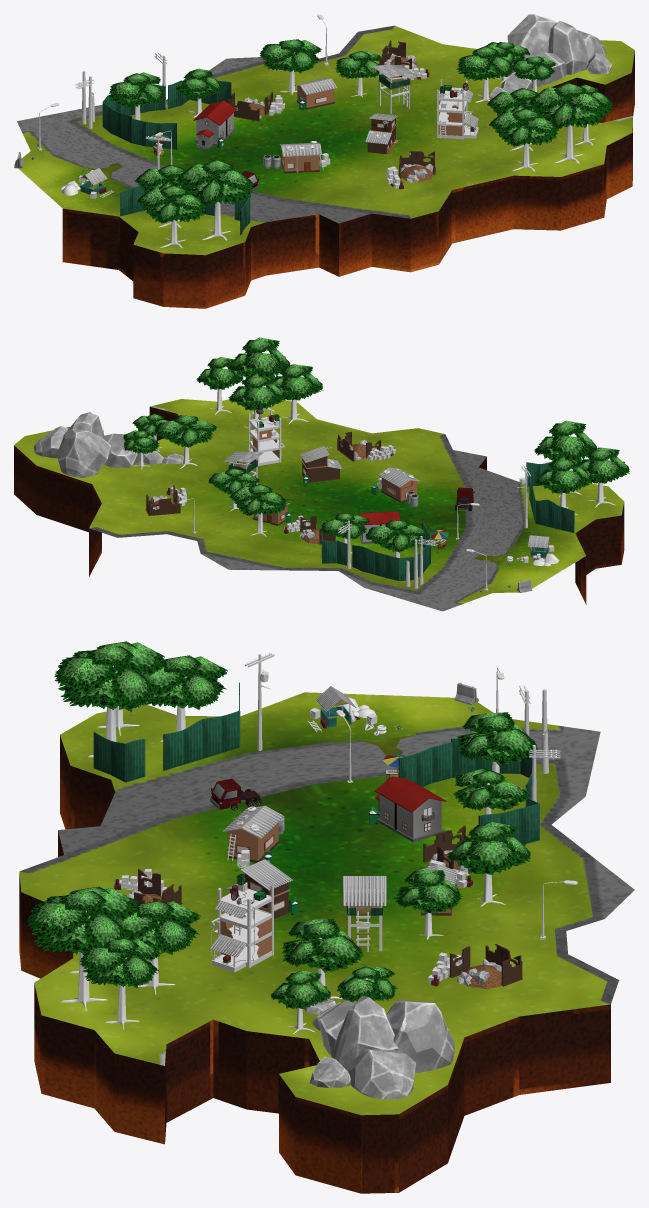
The model's file is Improve.fbx.
The picture shows the model from 3 angles, top to bottom: view 1: azimuth 30°, elevation 25°; view 2: azimuth 150°, elevation 25°; view 3: azimuth 270°, elevation 25°; orthographic projection. The views are drawn at different scales.
Visible parts, largest first — view 1: Improve, tree.004, tree.044, tree.003, tree.043, Sphere.023, tree.047, tree, tree.045, Cube.2079, Cube.2128, Cube.2134 (+14 smaller); view 2: Improve, Cube.2134, tree.044, tree.004, Sphere.023, tree, tree.042, tree.003, tree.043, tree.047, tree.001, tree.045 (+13 smaller); view 3: Improve, tree.044, tree.004, Sphere.023, Cube.2134, tree.042, tree.005, tree.001, tree.047, tree, tree.045, Cube.2129 (+20 smaller).
Boxes of the visible parts, left/top/right/bottom form: Improve: left=14, top=25, right=634, bottom=308; tree.004: left=528, top=83, right=605, bottom=163; tree.044: left=176, top=159, right=253, bottom=240; tree.003: left=489, top=108, right=558, bottom=171; tree.043: left=137, top=185, right=206, bottom=248; Sphere.023: left=436, top=79, right=478, bottom=139; tree.047: left=260, top=39, right=321, bottom=94; tree: left=456, top=45, right=512, bottom=102; tree.045: left=108, top=72, right=164, bottom=120; Cube.2079: left=263, top=141, right=330, bottom=173; Cube.2128: left=548, top=21, right=588, bottom=74; Cube.2134: left=507, top=14, right=556, bottom=53; Improve: left=14, top=399, right=624, bottom=611; Cube.2134: left=58, top=429, right=110, bottom=477; tree.044: left=534, top=420, right=596, bottom=497; tree.004: left=228, top=337, right=290, bottom=413; Sphere.023: left=246, top=409, right=284, bottom=466; tree: left=155, top=415, right=216, bottom=468; tree.042: left=535, top=457, right=591, bottom=515; tree.003: left=266, top=364, right=323, bottom=424; tree.043: left=579, top=447, right=629, bottom=507; tree.047: left=229, top=484, right=287, bottom=536; tree.001: left=228, top=374, right=285, bottom=429; tree.045: left=365, top=520, right=427, bottom=557; Improve: left=19, top=692, right=634, bottom=1193; tree.044: left=54, top=645, right=163, bottom=757; tree.004: left=27, top=890, right=136, bottom=1011; Sphere.023: left=209, top=873, right=273, bottom=972; Cube.2134: left=387, top=1000, right=454, bottom=1073; tree.042: left=140, top=655, right=227, bottom=741; tree.005: left=80, top=938, right=161, bottom=1029; tree.001: left=113, top=900, right=200, bottom=994; tree.047: left=447, top=822, right=530, bottom=906; tree: left=282, top=919, right=363, bottom=998; tree.045: left=456, top=712, right=537, bottom=773; Cube.2129: left=347, top=1049, right=415, bottom=1099.
Size of the model in its own units: 2918 by 603 by 1811.
